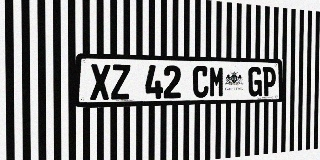2: (164, 65, 181, 99)
4: (145, 65, 163, 99)
C: (193, 66, 209, 98)
G: (248, 67, 262, 97)
M: (209, 66, 224, 97)
P: (262, 67, 276, 96)
X: (90, 64, 110, 100)
Z: (111, 64, 130, 100)
